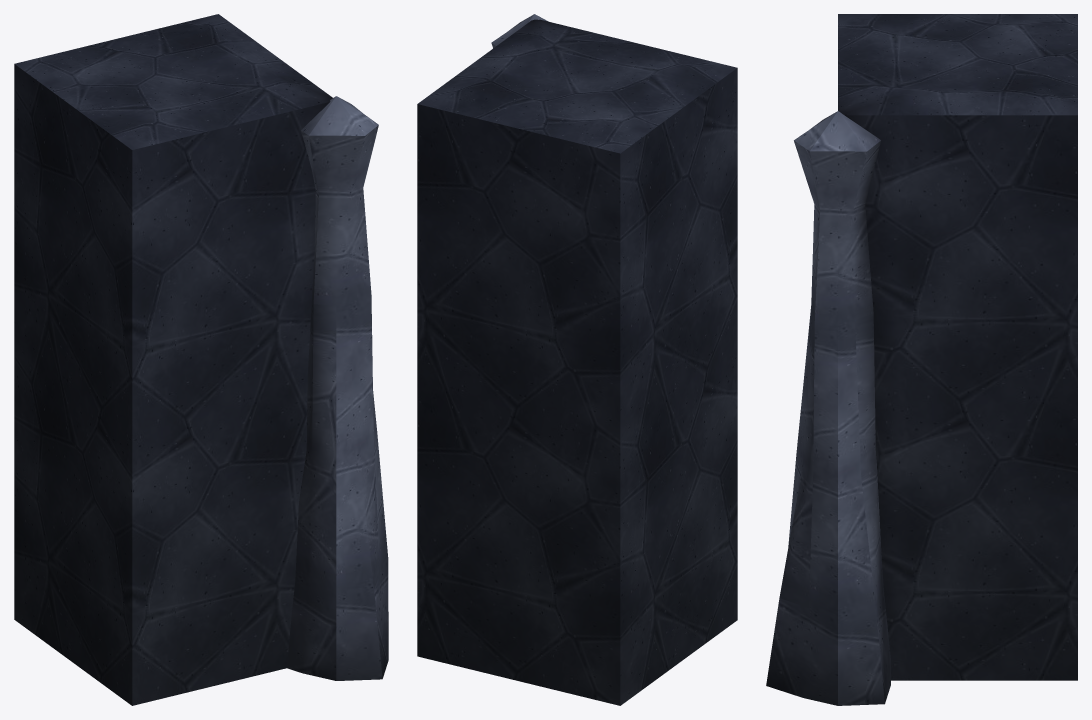
The model's file is cave_wall_inner.glb.
The picture shows the model from 3 angles, left to right: view 1: azimuth 30°, elevation 25°; view 2: azimuth 150°, elevation 25°; view 3: azimuth 270°, elevation 25°; orthographic projection. The views are drawn at different scales.
Visible parts, largest first — view 1: cave_wall_inner; view 2: cave_wall_inner; view 3: cave_wall_inner.
Part boxes in pixels (x1,y1,x2,y2): cave_wall_inner: (14,14,388,705); cave_wall_inner: (417,14,737,705); cave_wall_inner: (766,14,1077,705).
Size of the model in its own units: 1.25 by 2.64 by 1.3.
1 material, 1 textured.
